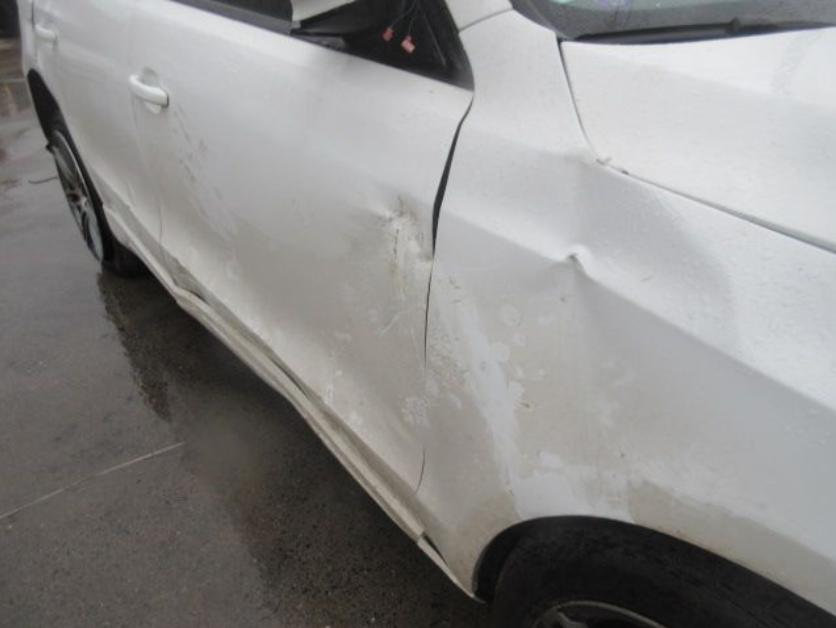Back-door: (33, 0, 162, 272)
Back-wheel: (44, 109, 147, 278)
Fender: (413, 10, 835, 614)
Front-door: (130, 0, 477, 507)
Front-wheel: (486, 516, 833, 627)
Front-window: (208, 0, 289, 33)
Hood: (561, 30, 835, 250)
Mirror: (289, 0, 408, 39)
Quarter-panel: (20, 5, 37, 90)
Rocker-panel: (108, 219, 457, 584)
Windshield: (516, 0, 835, 42)
